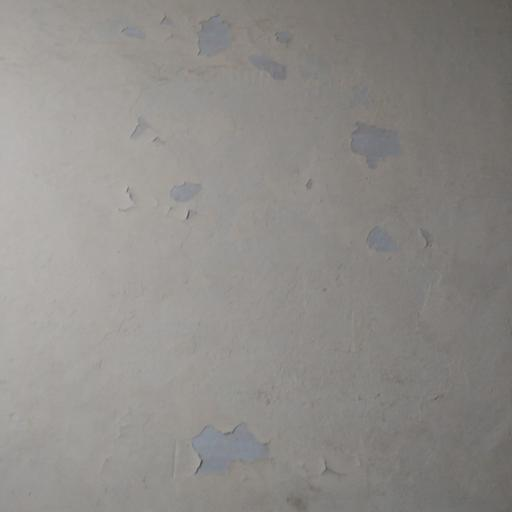peeling: (108, 0, 332, 101), (323, 103, 456, 273), (94, 116, 242, 234), (171, 408, 322, 495)
